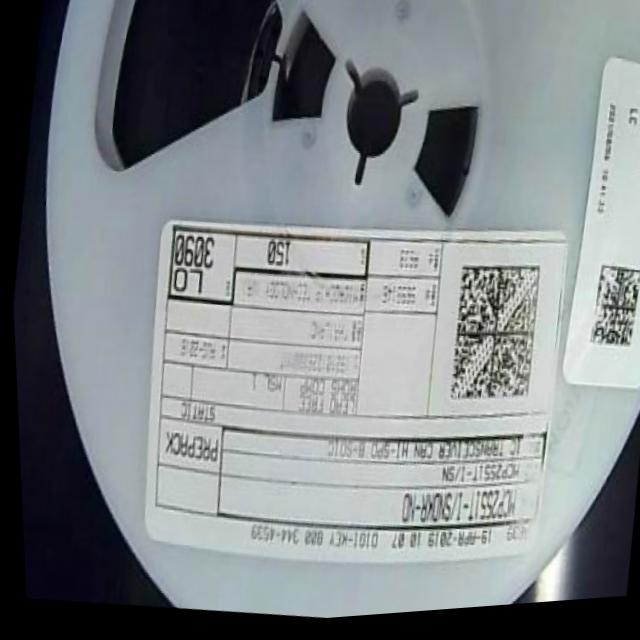datamatrix: (438, 262, 546, 419), (581, 270, 640, 366)
